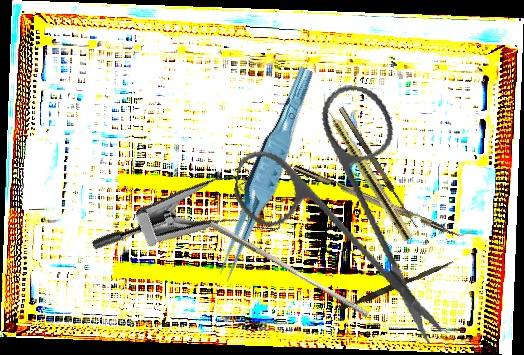Chopper: (292, 156, 475, 245)
Handpiece: (314, 92, 416, 243)
Hook Surgical: (338, 102, 425, 230)
Iris Scissors: (212, 67, 484, 346)
Pusher: (205, 220, 373, 318), (338, 256, 455, 314)
Speculum: (88, 135, 304, 320)
Tissue Forceps: (199, 64, 330, 285)
